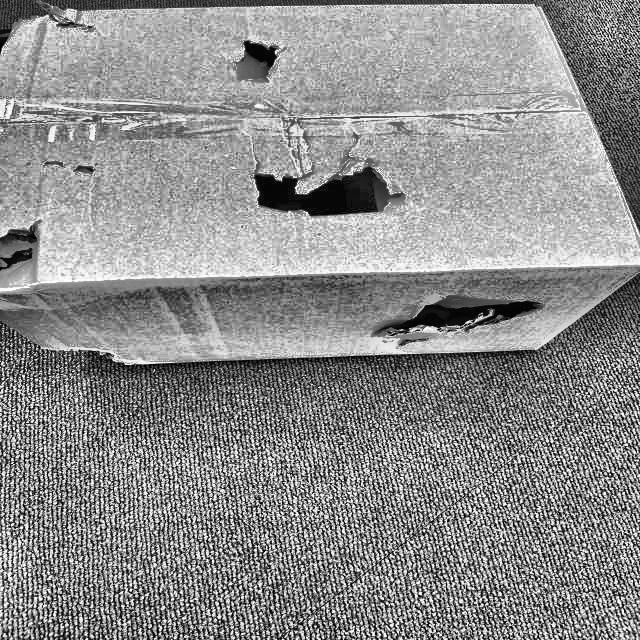box: (0, 0, 640, 357)
hole: (247, 155, 411, 223), (376, 295, 544, 345), (226, 37, 286, 75)
